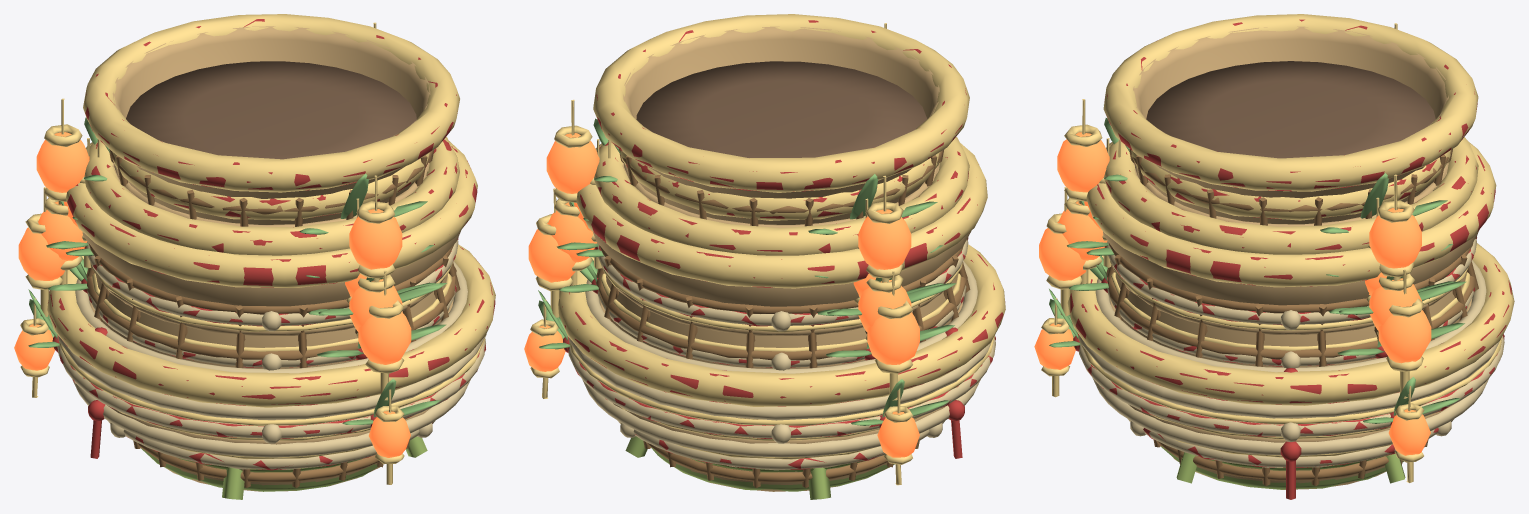
File: chau-may-tre.glb
The picture shows the model from 3 angles, left to right: view 1: azimuth 30°, elevation 25°; view 2: azimuth 150°, elevation 25°; view 3: azimuth 270°, elevation 25°; orthographic projection.
Parts seen in each view (by area): view 1: ChauTre_4_Lv6, ChauTre_3_Lv6, ChauTre_4_Dat, ChauTre_1_Lv6, ChauTre_4_Than, ChauTre_6_Lv6, ChauTre_1_Than, ChauTre_5_Than, ChauTre_5_Lv6, ChauTre_3_Lv3, ChauTre_3_Than, ChauTre_3_Lv2 (+14 smaller); view 2: ChauTre_4_Lv6, ChauTre_3_Lv6, ChauTre_4_Dat, ChauTre_1_Lv6, ChauTre_4_Than, ChauTre_6_Lv6, ChauTre_1_Than, ChauTre_5_Than, ChauTre_5_Lv6, ChauTre_3_Lv3, ChauTre_3_Than, ChauTre_3_Lv2 (+14 smaller); view 3: ChauTre_4_Lv6, ChauTre_3_Lv6, ChauTre_4_Dat, ChauTre_1_Lv6, ChauTre_4_Than, ChauTre_6_Lv6, ChauTre_1_Than, ChauTre_5_Than, ChauTre_5_Lv6, ChauTre_3_Lv3, ChauTre_3_Than, ChauTre_3_Lv2 (+14 smaller).
Boxes of the visible parts, x1,y1,x2,y2 form: ChauTre_4_Lv6: (36,14,459,281); ChauTre_3_Lv6: (14,244,495,484); ChauTre_4_Dat: (126,61,416,159); ChauTre_1_Lv6: (18,141,477,400); ChauTre_4_Than: (109,26,433,227); ChauTre_6_Lv6: (38,136,459,337); ChauTre_1_Than: (82,231,460,491); ChauTre_5_Than: (86,263,460,368); ChauTre_5_Lv6: (64,138,458,331); ChauTre_3_Lv3: (57,339,485,469); ChauTre_3_Than: (58,334,486,472); ChauTre_3_Lv2: (72,379,470,457); ChauTre_4_Lv6: (546,14,969,282); ChauTre_3_Lv6: (524,244,1005,485); ChauTre_4_Dat: (636,61,926,157); ChauTre_1_Lv6: (528,143,987,400); ChauTre_4_Than: (618,26,944,227); ChauTre_6_Lv6: (548,137,969,340); ChauTre_1_Than: (593,231,971,491); ChauTre_5_Than: (595,262,970,368); ChauTre_5_Lv6: (574,139,968,332); ChauTre_3_Lv3: (568,338,995,469); ChauTre_3_Than: (568,337,992,472); ChauTre_3_Lv2: (582,379,980,457); ChauTre_4_Lv6: (1057,14,1478,280); ChauTre_3_Lv6: (1034,243,1514,482); ChauTre_4_Dat: (1146,61,1435,158); ChauTre_1_Lv6: (1039,142,1496,398); ChauTre_4_Than: (1129,26,1452,226); ChauTre_6_Lv6: (1058,137,1478,336); ChauTre_1_Than: (1103,230,1479,489); ChauTre_5_Than: (1106,261,1478,367); ChauTre_5_Lv6: (1084,138,1476,330); ChauTre_3_Lv3: (1079,336,1504,467); ChauTre_3_Than: (1079,335,1499,470); ChauTre_3_Lv2: (1092,378,1489,455).
Bounding box in the file's own units: 1.32 × 1.08 × 1.34.
